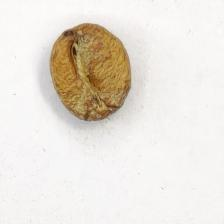NG: (60, 32, 124, 115)
